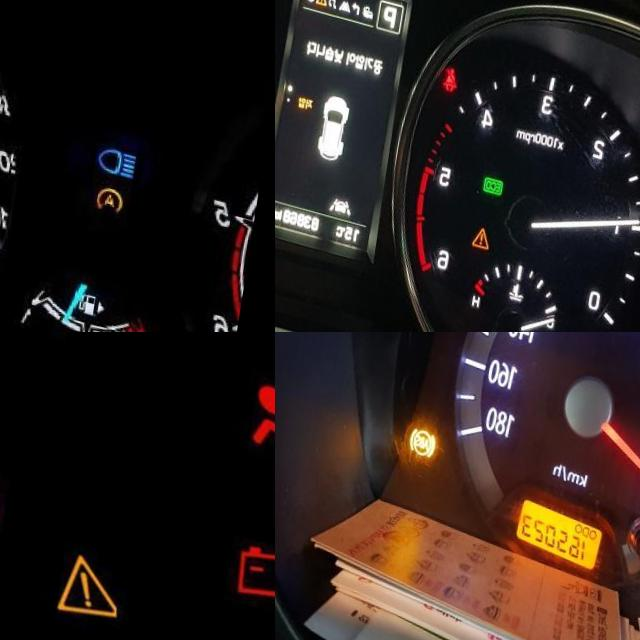Central Warning lamp: (484, 199, 504, 226)
